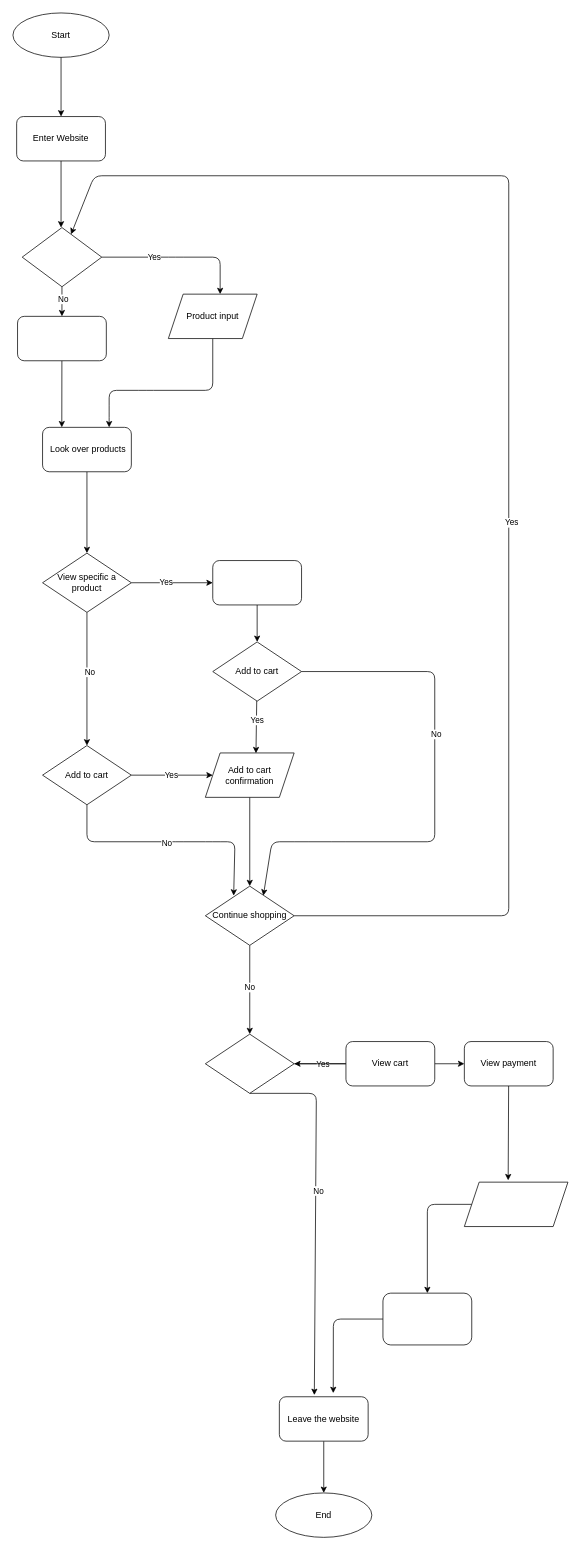
Image size: 581x1550. Some labels were removed from this diagram. The shapes that lost their labels are listed below. From the top down, each one's centre as x and y in pixels, then its label:
pixel 61 257: Search Product
pixel 61 338: Explore product on homepage
pixel 257 582: Product webpage open
pixel 249 1063: Checkout
pixel 516 1204: Input payment info
pixel 427 1318: Confirmation&Email
